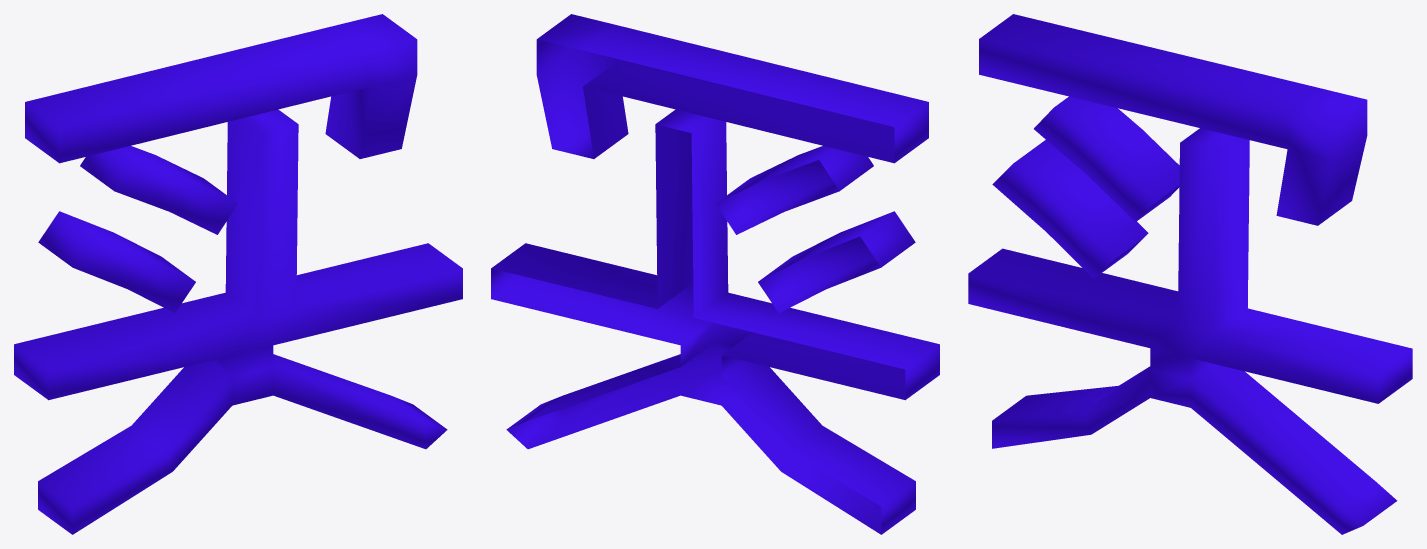
Rendered from Buy.glb.
The picture shows the model from 3 angles, left to right: view 1: azimuth 30°, elevation 25°; view 2: azimuth 150°, elevation 25°; view 3: azimuth 330°, elevation 25°; orthographic projection.
Visible parts, largest first — view 1: Buy; view 2: Buy; view 3: Buy.
Part boxes in pixels (x1,y1,x2,y2): Buy: (14, 14, 462, 534); Buy: (491, 14, 939, 534); Buy: (968, 14, 1412, 534).
Bounding box in the file's own units: 0.4601 × 0.4375 × 0.0664.
1 material, 1 textured.
